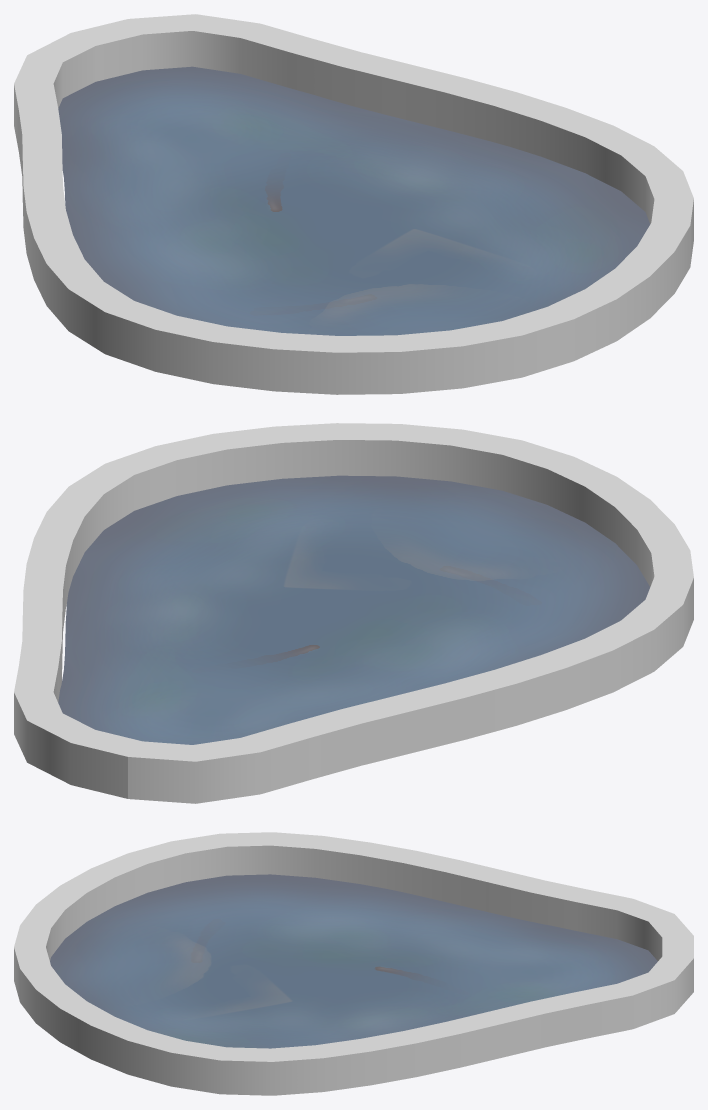
The model's file is fountain_3.fbx.
3 views of the same model, one above another, from view 1: azimuth 30°, elevation 25°; view 2: azimuth 150°, elevation 25°; view 3: azimuth 270°, elevation 25° (orthographic). The views are drawn at different scales.
Parts seen in each view (by area): view 1: paddle.001, Cube.005; view 2: paddle.001, Cube.005; view 3: paddle.001, Cube.005.
Boxes of the visible parts, x1=… form: paddle.001: x1=58, y1=66, x2=650, y2=335; Cube.005: x1=14, y1=14, x2=693, y2=394; paddle.001: x1=58, y1=475, x2=650, y2=744; Cube.005: x1=14, y1=423, x2=693, y2=803; paddle.001: x1=50, y1=874, x2=657, y2=1048; Cube.005: x1=14, y1=832, x2=693, y2=1095.
Bounding box in the file's own units: 1.85 × 0.127 × 2.31.
